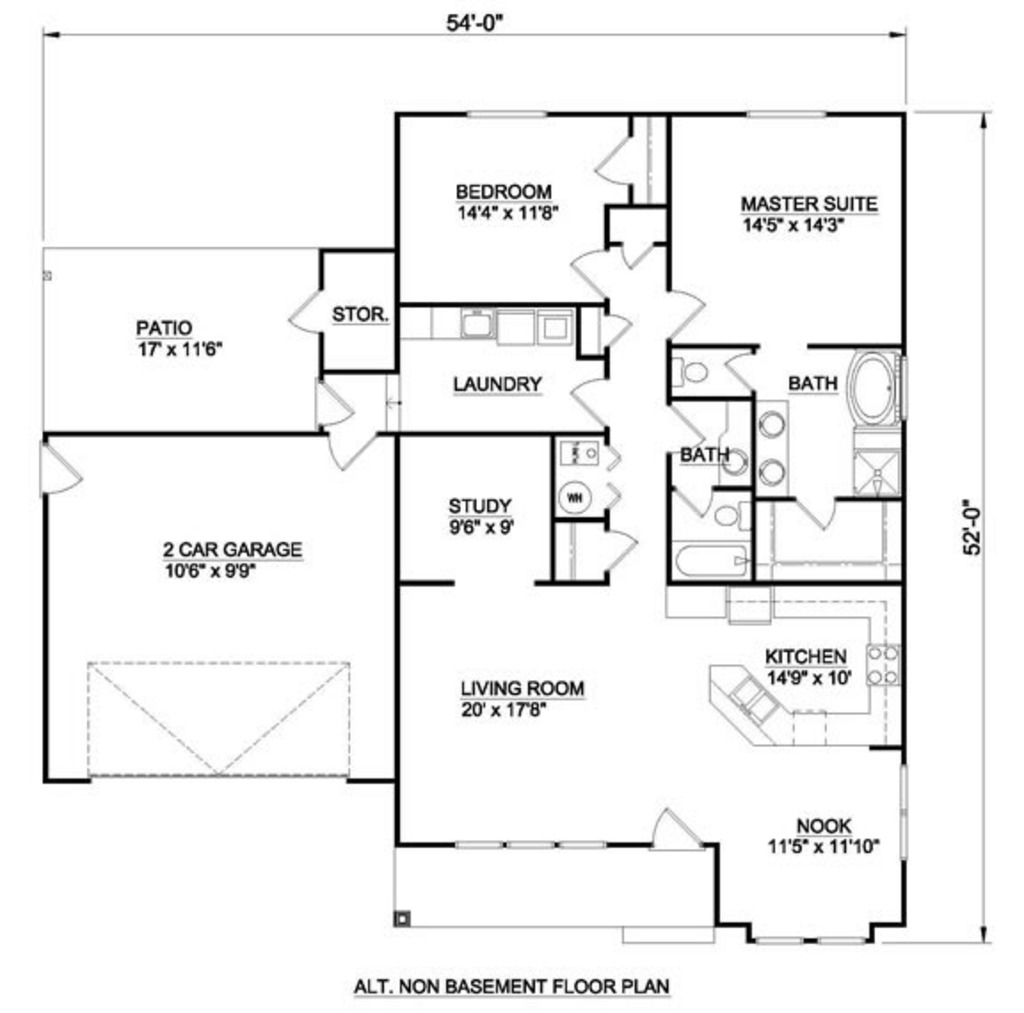door: (646, 803, 711, 854), (33, 434, 83, 500), (589, 123, 643, 182), (565, 370, 615, 433), (562, 233, 608, 301), (287, 282, 332, 341), (786, 491, 842, 533), (658, 407, 707, 454), (322, 428, 376, 469), (722, 345, 763, 398), (668, 283, 703, 345), (311, 379, 354, 425), (606, 526, 642, 579), (665, 481, 717, 517), (612, 241, 659, 276), (599, 308, 627, 349)
large_sink: (663, 345, 713, 397)
sink: (458, 302, 501, 341)
small_sink: (753, 394, 792, 497), (709, 433, 757, 494)
tub: (844, 347, 911, 430), (674, 538, 756, 580)
twin_sink: (729, 670, 784, 737)
window: (744, 100, 836, 130), (466, 105, 556, 123)
